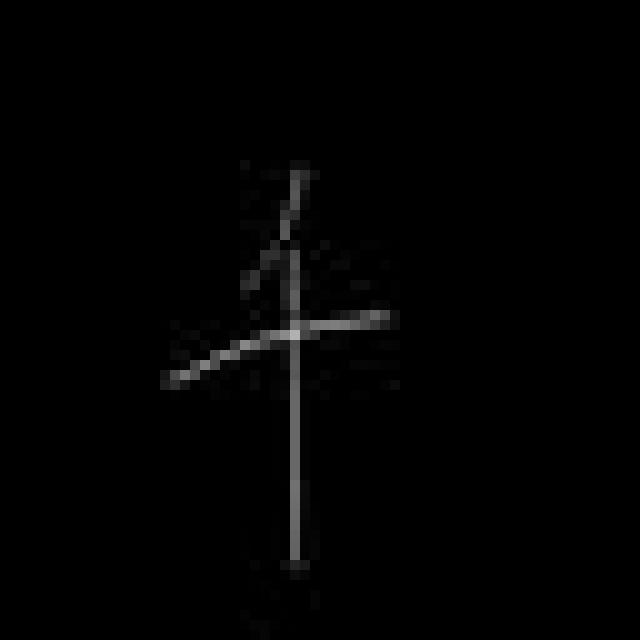1000 -a thousand-: (153, 159, 396, 577)
